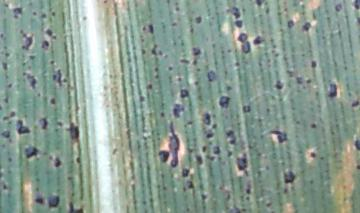tarspot: (167, 120, 181, 169), (266, 126, 291, 146), (235, 31, 252, 55), (235, 152, 251, 176), (64, 119, 80, 141), (19, 29, 34, 51), (15, 117, 32, 136), (20, 144, 41, 159), (43, 193, 64, 208), (280, 169, 299, 184), (223, 126, 237, 145), (50, 68, 63, 88), (65, 201, 86, 213), (215, 93, 230, 109), (171, 100, 183, 119), (201, 129, 219, 141), (327, 81, 338, 100), (176, 85, 192, 98), (199, 110, 212, 126), (10, 5, 25, 18), (37, 115, 49, 131), (203, 67, 215, 83), (27, 73, 38, 90), (300, 20, 314, 33), (349, 135, 360, 151), (307, 55, 318, 71), (31, 193, 44, 206), (157, 148, 169, 162), (233, 18, 247, 30), (150, 43, 160, 59), (192, 12, 204, 25), (238, 102, 251, 114), (307, 120, 320, 132), (178, 56, 191, 68), (228, 6, 241, 18), (189, 44, 203, 55), (186, 179, 197, 193), (73, 154, 84, 168), (197, 191, 211, 202), (205, 152, 219, 163), (251, 34, 266, 44), (272, 77, 282, 92), (146, 21, 156, 36), (209, 144, 224, 154), (41, 26, 53, 38), (194, 152, 205, 165), (45, 95, 59, 105), (184, 119, 198, 129), (39, 39, 50, 51), (284, 17, 295, 29), (51, 156, 61, 169), (179, 168, 193, 177), (1, 128, 12, 139), (333, 2, 344, 13), (5, 79, 15, 91), (350, 1, 360, 13), (1, 61, 11, 73), (244, 185, 254, 197), (294, 75, 304, 87), (250, 1, 267, 8), (306, 151, 319, 160), (158, 109, 167, 122), (66, 173, 75, 186), (40, 11, 50, 22), (165, 63, 175, 74), (54, 119, 65, 129), (347, 99, 359, 108), (225, 83, 234, 95), (139, 45, 147, 58), (304, 76, 314, 86), (48, 58, 58, 68), (29, 8, 39, 18), (232, 59, 242, 69), (5, 154, 15, 164), (2, 50, 12, 60), (281, 186, 291, 196), (173, 5, 183, 15), (200, 143, 209, 154), (26, 53, 38, 61), (2, 94, 10, 106), (146, 81, 154, 92), (175, 73, 183, 84), (140, 23, 148, 34), (1, 181, 8, 193), (62, 75, 69, 87), (265, 105, 272, 117), (50, 9, 59, 18), (152, 65, 161, 74), (137, 94, 146, 103), (264, 200, 273, 209), (9, 111, 19, 119), (354, 161, 360, 172)
